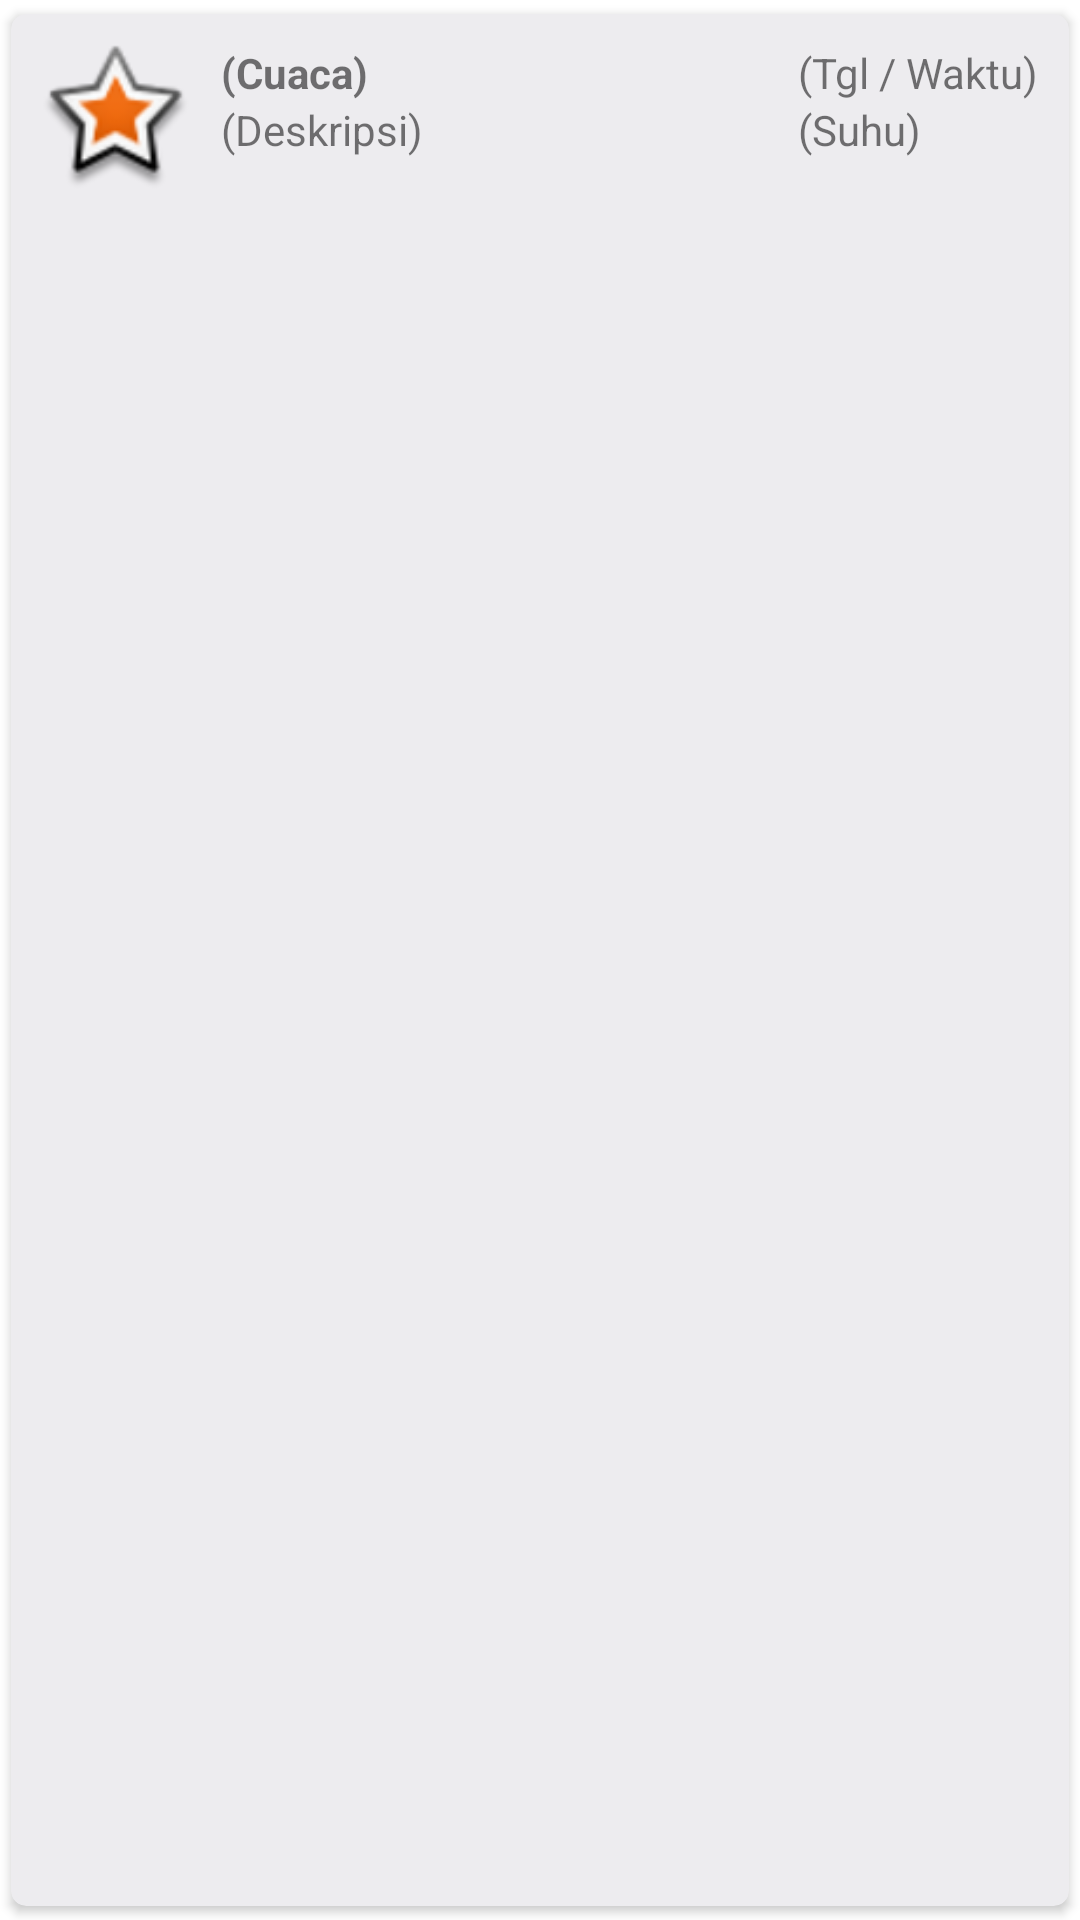

Where to tap for icons on this 1080*1920 app screen, as [x,y]:
star on: [115,114]
